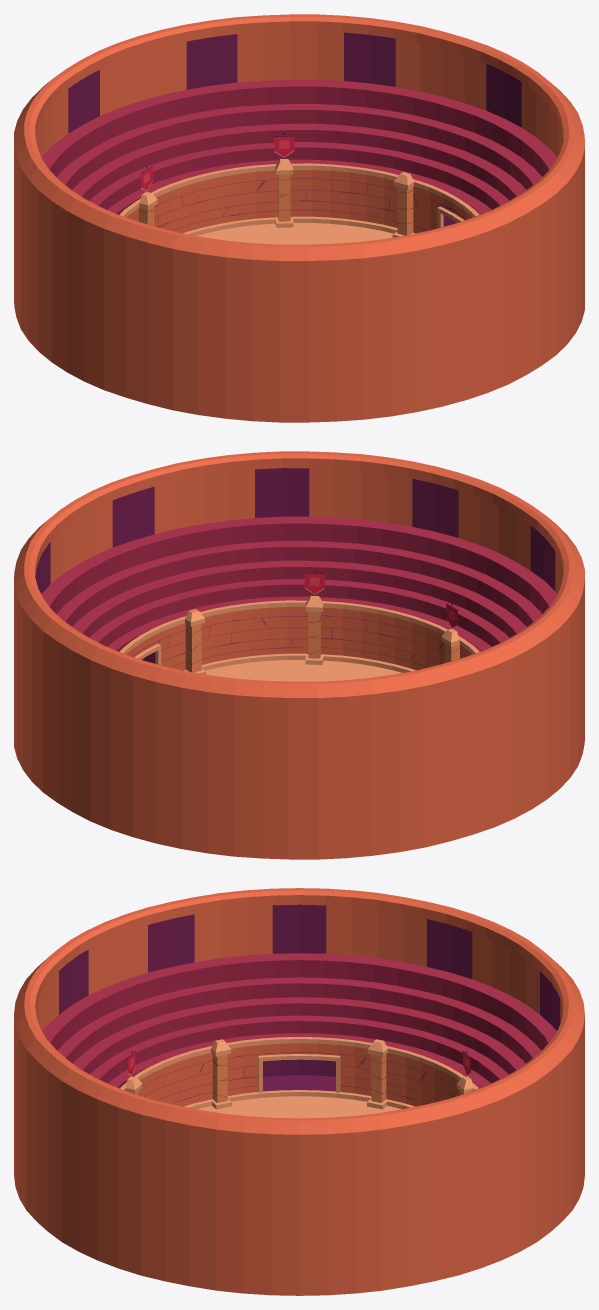
File: Arenas_Gladiators.fbx
The picture shows the model from 3 angles, top to bottom: view 1: azimuth 30°, elevation 25°; view 2: azimuth 150°, elevation 25°; view 3: azimuth 270°, elevation 25°; orthographic projection.
Visible parts, largest first — view 1: Arena; view 2: Arena; view 3: Arena.
Boxes of the visible parts, x1,y1,x2,y2 form: Arena: (14, 14, 584, 422); Arena: (14, 451, 584, 859); Arena: (14, 888, 584, 1295).
Bounding box in the file's own units: 2.98 × 0.9846 × 2.98.
